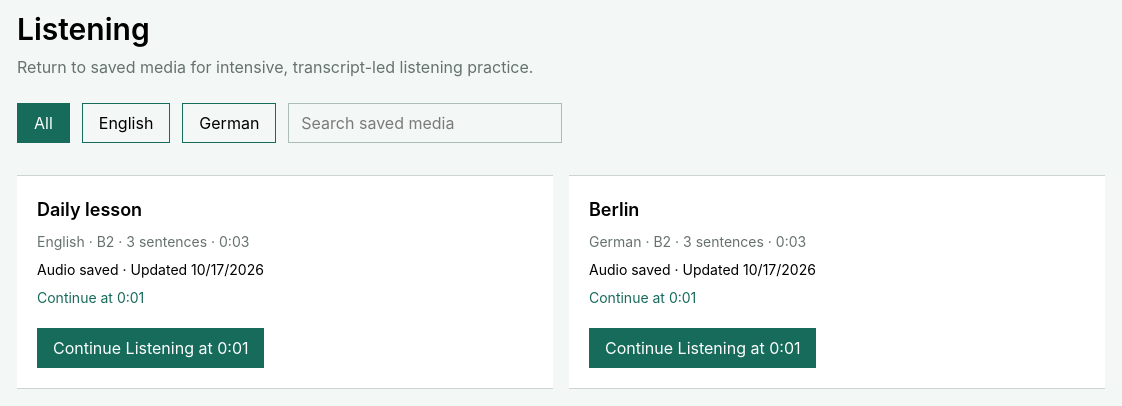
Test case: Listening Home › filters language and searches title or source
Expected: the heading "Berlin" is shown, [589,199,639,220]
Click the button "German" at [229, 123], box [182,103,276,143]
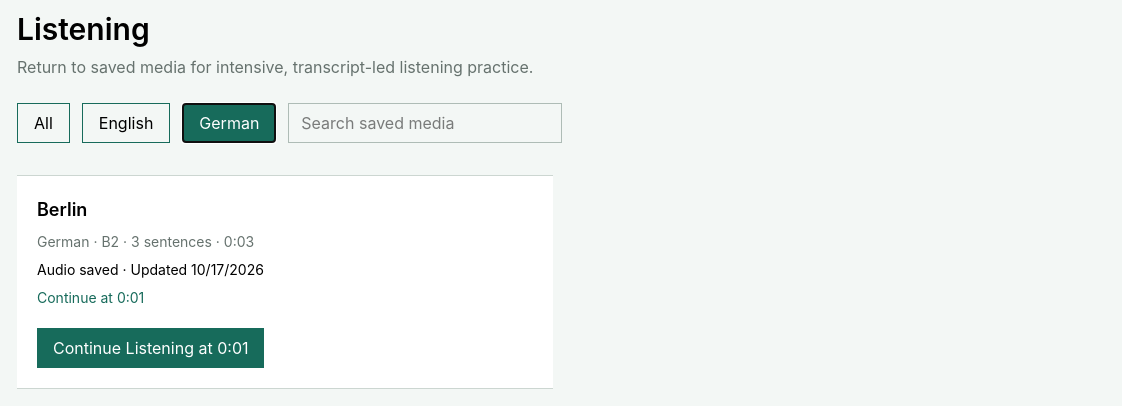
Now the heading "Daily lesson" is gone
Click the button "All" at [43, 123], box [17,103,70,143]
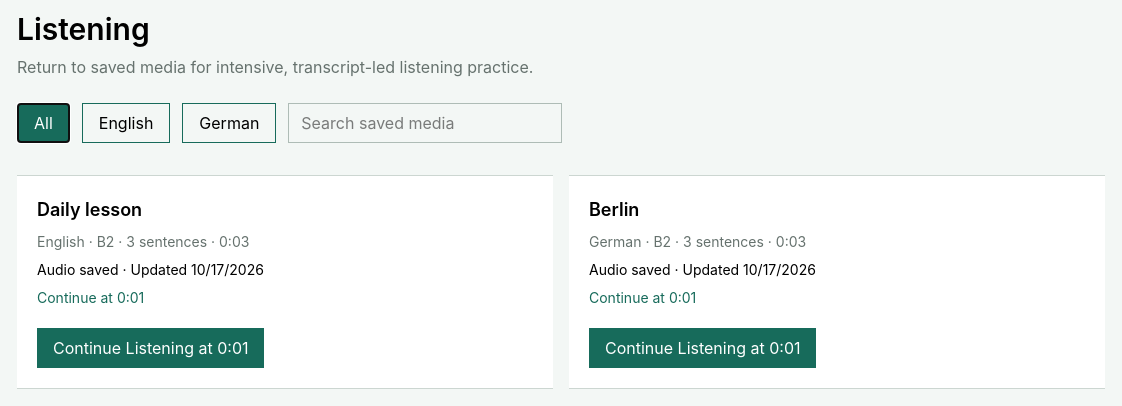
Type "youtube.com" into the field named "Search Listening media" at [425, 123], box [288,103,562,143]
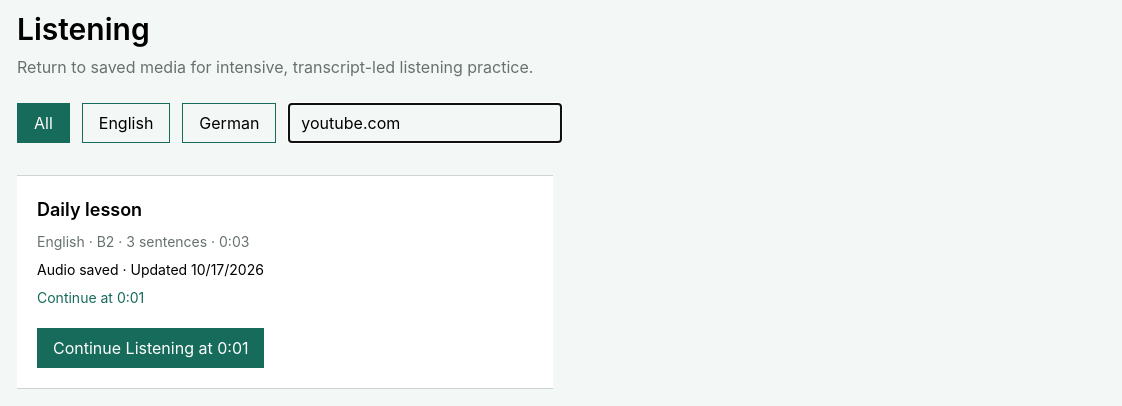
Now the heading "Daily lesson" is shown, box [37,199,142,220]
Now the heading "Berlin" is gone
